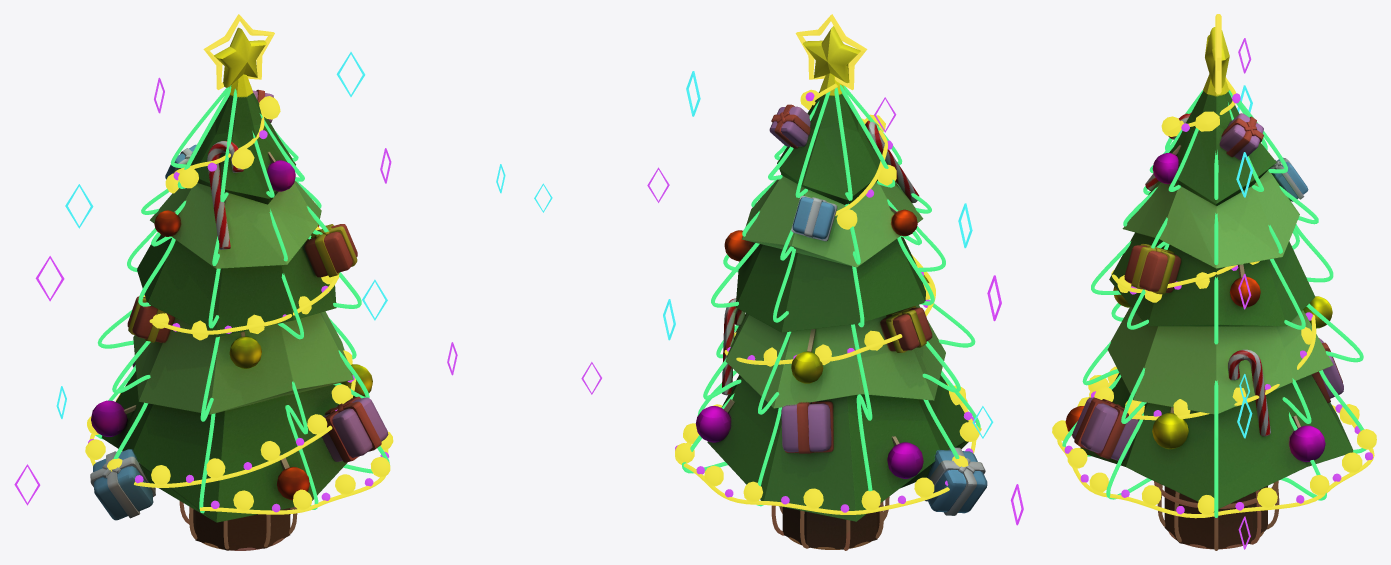
The model's file is neon _tree.fbx.
The picture shows the model from 3 angles, left to right: view 1: azimuth 30°, elevation 25°; view 2: azimuth 150°, elevation 25°; view 3: azimuth 270°, elevation 25°; orthographic projection.
Visible parts, largest first — view 1: Bake_17, BezierCurve_016_2, BezierCurve_014_1, Bake_001_18, Cylinder_001_3, Sphere_002_15, BezierCircle_0; view 2: Bake_17, BezierCurve_014_1, BezierCurve_016_2, Bake_001_18, Cylinder_001_3, BezierCircle_0, Sphere_002_15; view 3: Bake_17, BezierCurve_014_1, BezierCurve_016_2, BezierCircle_0, Sphere_002_15, Bake_001_18, Cylinder_001_3.
Part boxes in pixels (x1=…): Bake_17: x1=90, y1=74, x2=388, y2=550; BezierCurve_016_2: x1=85, y1=96, x2=393, y2=514; BezierCurve_014_1: x1=95, y1=85, x2=389, y2=513; Bake_001_18: x1=214, y1=27, x2=266, y2=87; Cylinder_001_3: x1=203, y1=14, x2=274, y2=89; Sphere_002_15: x1=88, y1=130, x2=389, y2=512; BezierCircle_0: x1=179, y1=501, x2=297, y2=550; Bake_17: x1=695, y1=73, x2=987, y2=549; BezierCurve_014_1: x1=682, y1=84, x2=980, y2=506; BezierCurve_016_2: x1=675, y1=83, x2=981, y2=514; Bake_001_18: x1=803, y1=26, x2=860, y2=83; Cylinder_001_3: x1=795, y1=14, x2=867, y2=90; BezierCircle_0: x1=771, y1=496, x2=889, y2=550; Sphere_002_15: x1=675, y1=92, x2=975, y2=512; Bake_17: x1=1065, y1=74, x2=1353, y2=549; BezierCurve_014_1: x1=1062, y1=90, x2=1366, y2=517; BezierCurve_016_2: x1=1052, y1=77, x2=1376, y2=518; BezierCircle_0: x1=1154, y1=480, x2=1279, y2=550; Sphere_002_15: x1=1064, y1=93, x2=1373, y2=514; Bake_001_18: x1=1205, y1=27, x2=1229, y2=87; Cylinder_001_3: x1=1215, y1=14, x2=1221, y2=94.
Bounding box in the file's own units: 29207 × 29413 × 16777.
2 materials, 1 textured.
